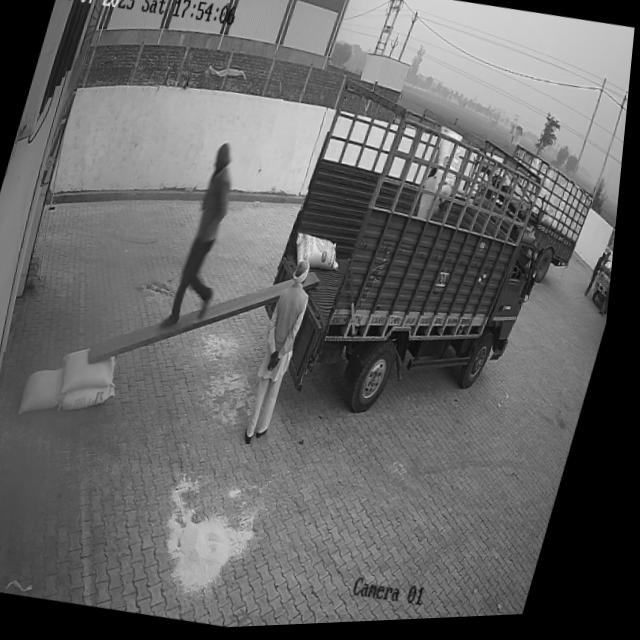sack: (60, 344, 128, 404), (24, 362, 78, 421), (293, 232, 352, 278), (66, 377, 125, 419)
